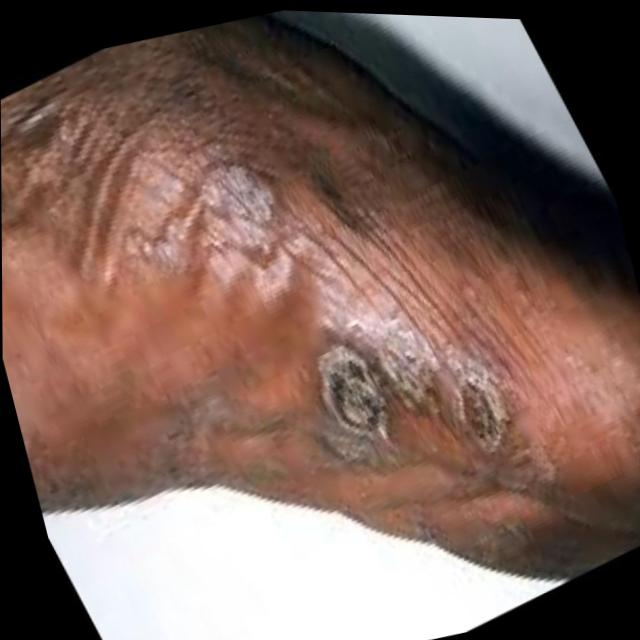Eczema: (266, 285, 530, 523)
